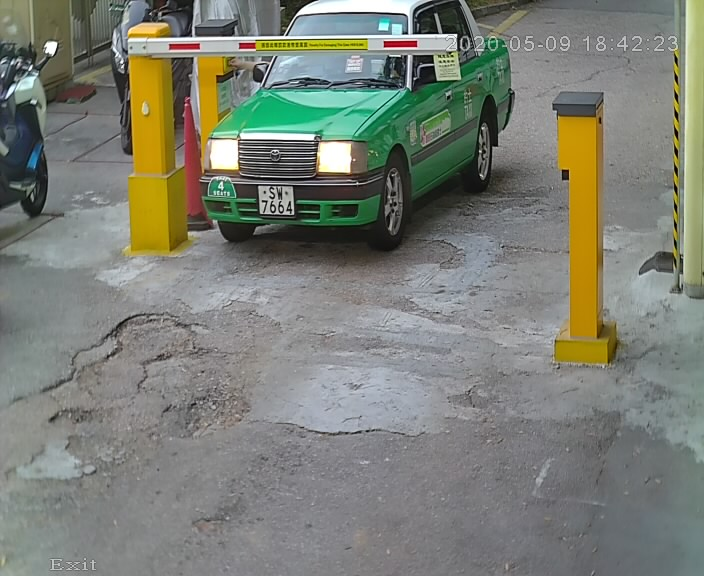taxi: (192, 2, 542, 268)
taxi_mark: (205, 171, 243, 207)
